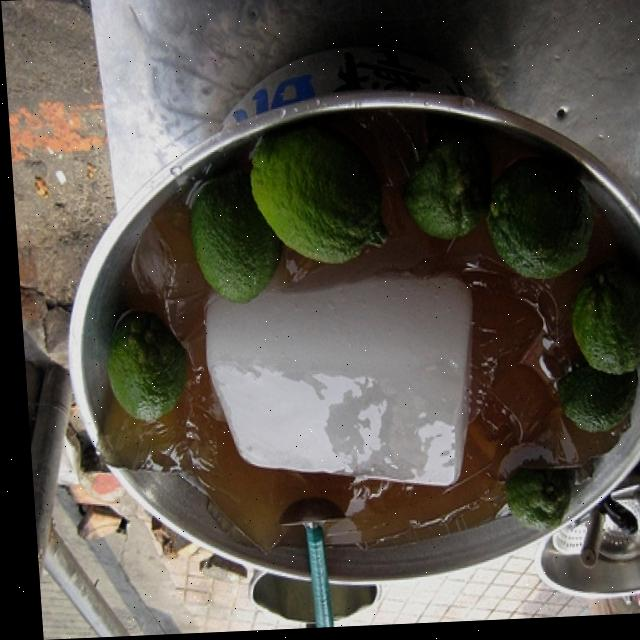蛋糕甜品: (56, 82, 640, 604)
